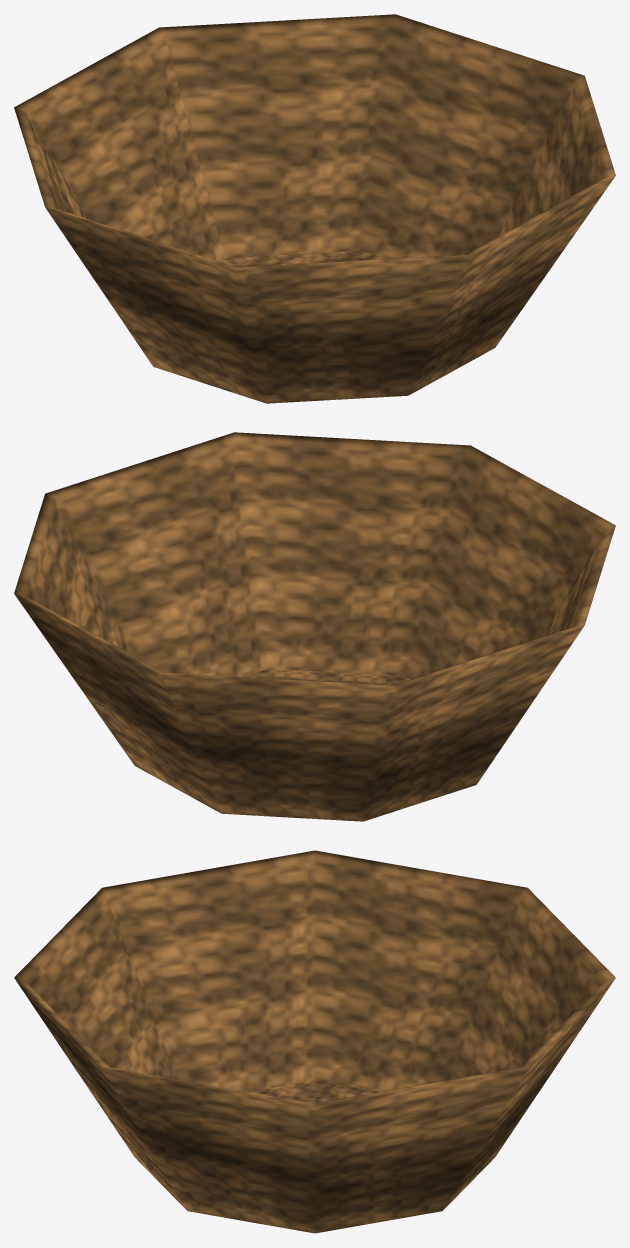
File: basket.fbx
3 renders of one model, top to bottom at view 1: azimuth 30°, elevation 25°; view 2: azimuth 150°, elevation 25°; view 3: azimuth 270°, elevation 25°, orthographic. The views are drawn at different scales.
Parts seen in each view (by area): view 1: Basket; view 2: Basket; view 3: Basket.
Part boxes in pixels (bbox=[...]): Basket: bbox=[14, 14, 615, 403]; Basket: bbox=[14, 432, 615, 821]; Basket: bbox=[14, 850, 615, 1233].
Size of the model in its own units: 3.34 by 1.1 by 3.34.
